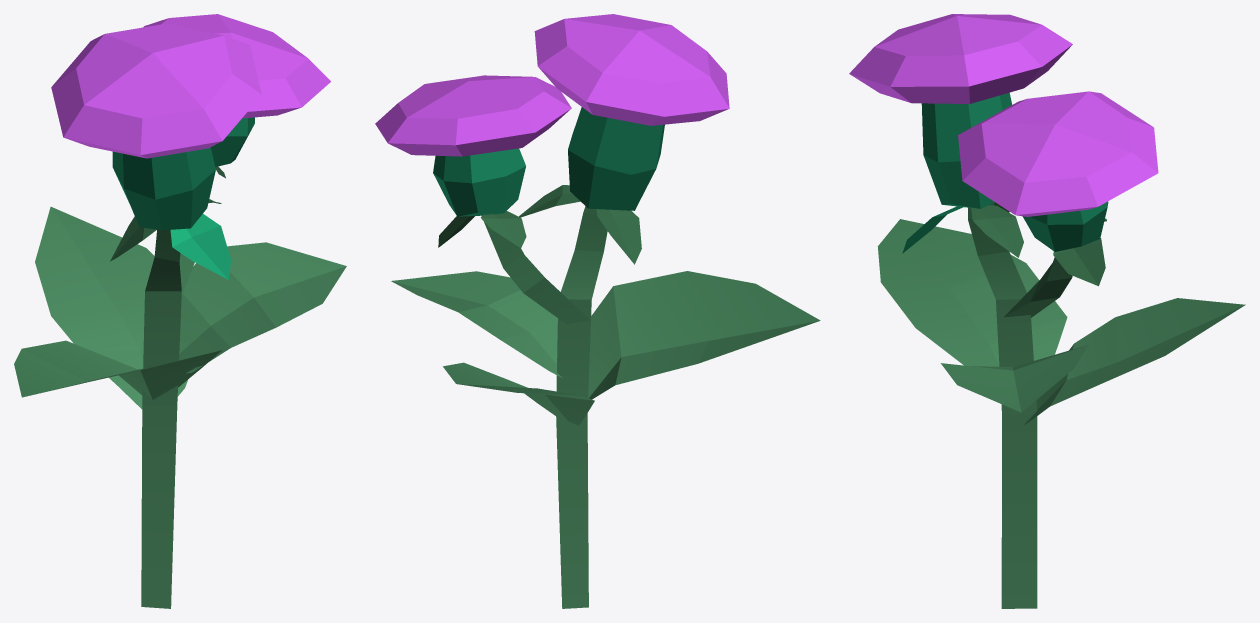
File: Flower_B.fbx
3 views of the same model, side by side, from view 1: azimuth 30°, elevation 25°; view 2: azimuth 150°, elevation 25°; view 3: azimuth 270°, elevation 25° (orthographic). The views are drawn at different scales.
Visible parts, largest first — view 1: Flower_B; view 2: Flower_B; view 3: Flower_B.
Part boxes in pixels (x1,y1,x2,y2): Flower_B: (14, 14, 346, 608); Flower_B: (375, 14, 820, 608); Flower_B: (849, 14, 1245, 608).
Size of the model in its own units: 35.16 by 50.61 by 31.75.
